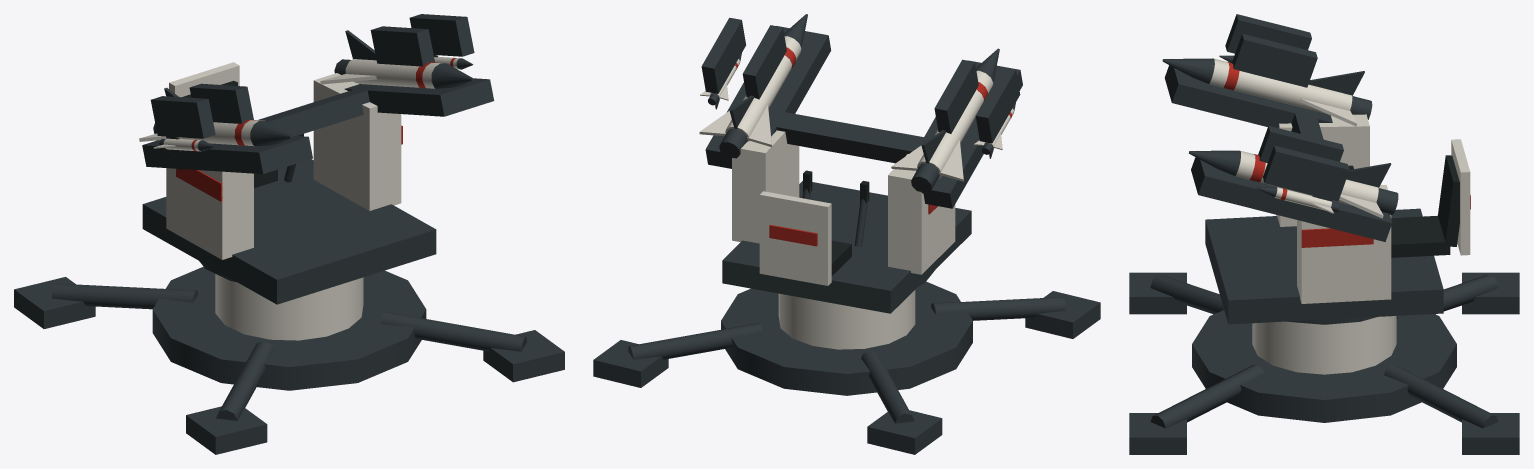
The picture shows the model from 3 angles, left to right: view 1: azimuth 30°, elevation 25°; view 2: azimuth 150°, elevation 25°; view 3: azimuth 270°, elevation 25°; orthographic projection. The views are drawn at different scales.
Parts seen in each view (by area): view 1: aa-missile-manned-fleet-machine, turret-fleet-machine, elevation-fleet-machine, turret-fleet-armor, aa-missile-manned-fleet-armor, store-right-large-painted, store-left-large-painted, turret-fleet-red, store-left-small-painted; view 2: aa-missile-manned-fleet-machine, elevation-fleet-machine, turret-fleet-armor, turret-fleet-machine, aa-missile-manned-fleet-armor, store-left-large-painted, store-right-large-painted, turret-fleet-rubber, turret-fleet-red; view 3: aa-missile-manned-fleet-machine, elevation-fleet-machine, turret-fleet-machine, turret-fleet-armor, aa-missile-manned-fleet-armor, store-left-large-painted, turret-fleet-rubber, store-right-large-painted, turret-fleet-red, store-right-small-painted.
Boxes of the visible parts, x1,y1,x2,y2 form: aa-missile-manned-fleet-machine: (14,261,564,454); turret-fleet-machine: (142,159,436,304); elevation-fleet-machine: (142,14,494,174); turret-fleet-armor: (166,62,401,259); aa-missile-manned-fleet-armor: (215,274,363,340); store-right-large-painted: (320,30,473,88); store-left-large-painted: (139,87,292,170); turret-fleet-red: (176,125,402,201); store-left-small-painted: (153,136,214,159); aa-missile-manned-fleet-machine: (593,270,1100,454); elevation-fleet-machine: (701,17,1022,208); turret-fleet-armor: (732,130,955,285); turret-fleet-machine: (722,181,971,313); aa-missile-manned-fleet-armor: (778,290,915,349); store-left-large-painted: (891,48,999,193); store-right-large-painted: (699,14,807,158); turret-fleet-rubber: (803,170,869,275); turret-fleet-red: (769,204,937,246); aa-missile-manned-fleet-machine: (1129,272,1519,454); elevation-fleet-machine: (1164,14,1392,241); turret-fleet-machine: (1205,208,1443,324); turret-fleet-armor: (1276,114,1470,303); aa-missile-manned-fleet-armor: (1252,316,1396,374); store-left-large-painted: (1162,58,1372,126); turret-fleet-rubber: (1348,155,1459,257); store-right-large-painted: (1189,150,1398,218); turret-fleet-red: (1301,194,1470,247); store-right-small-painted: (1257,187,1339,220).
Size of the model in its own units: 22.63 by 18.75 by 22.63.
